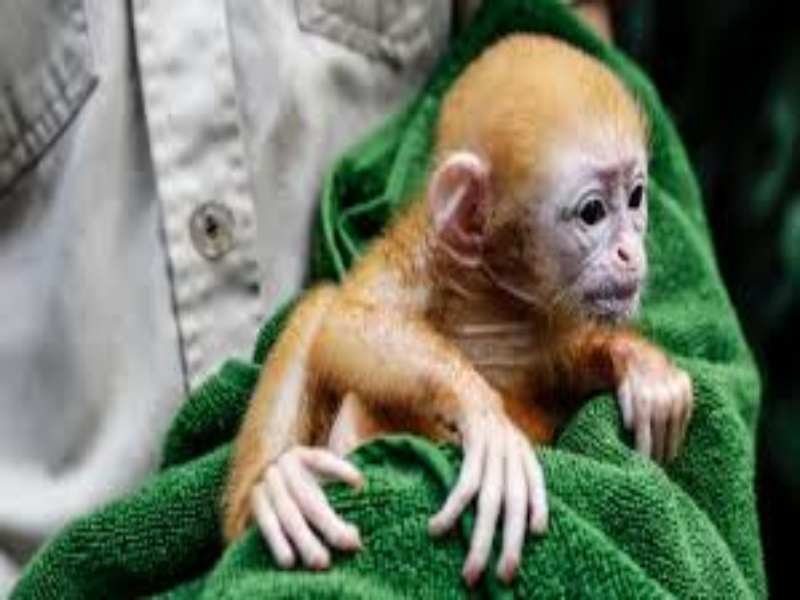monkey: (201, 58, 725, 581)
